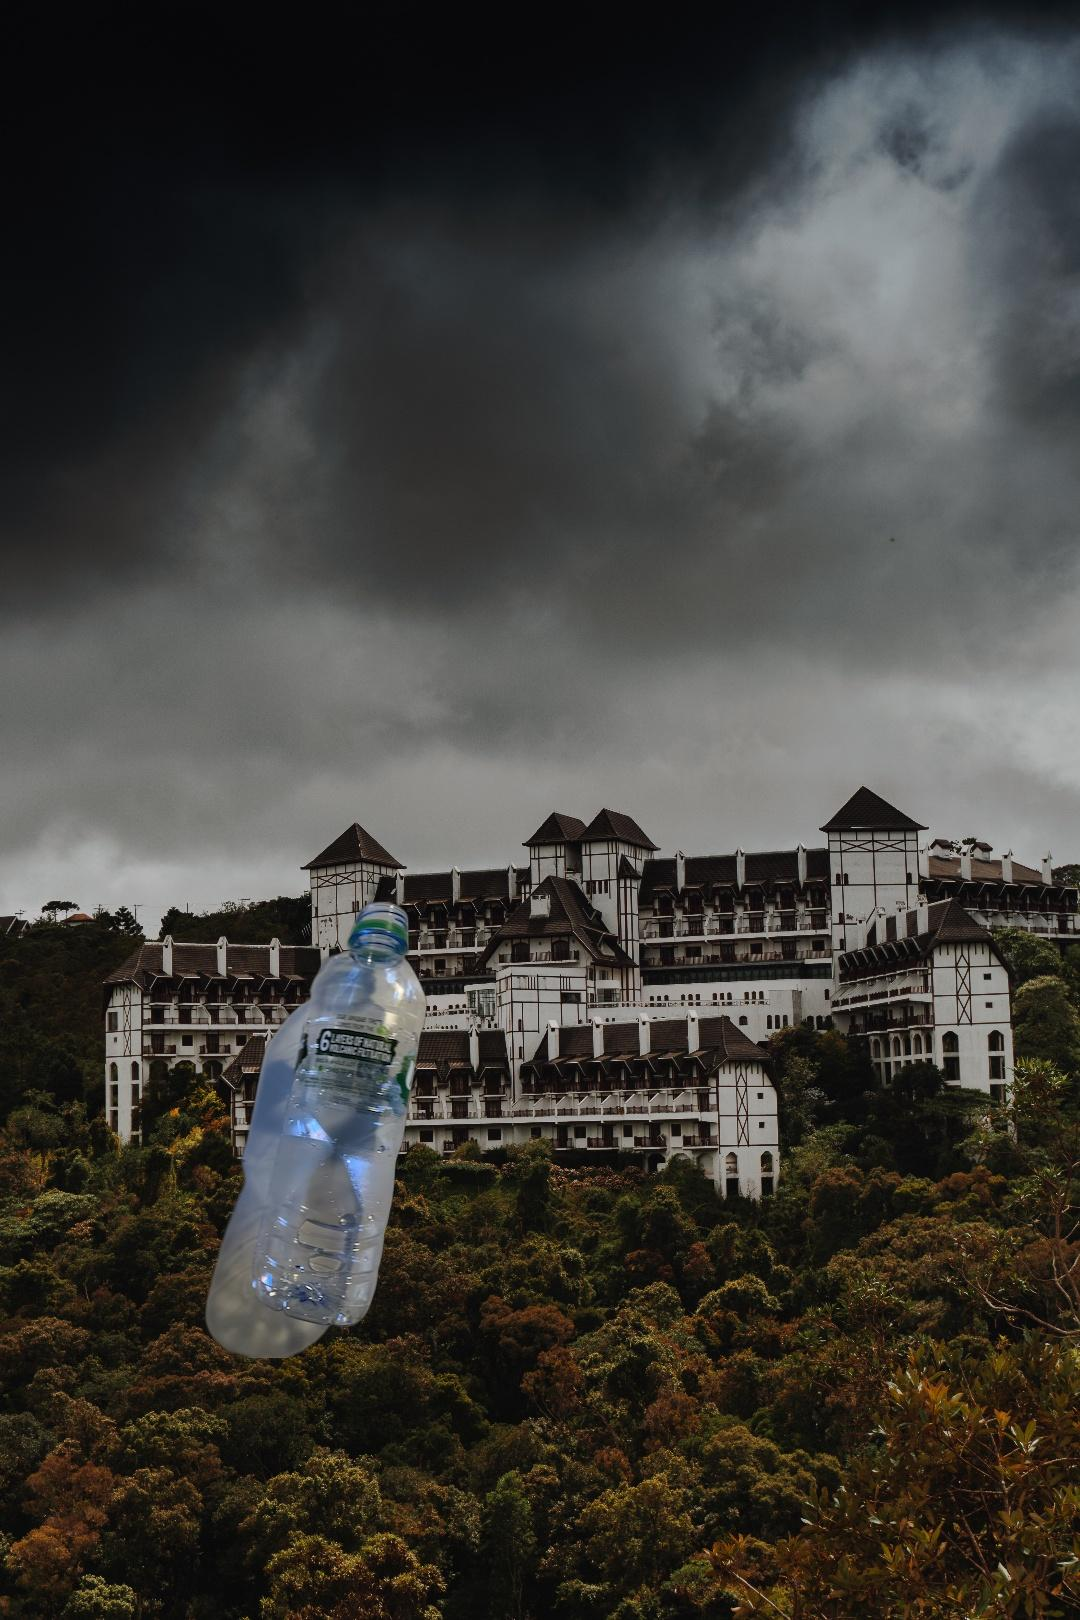plastic-bottles: (202, 897, 430, 1358)
